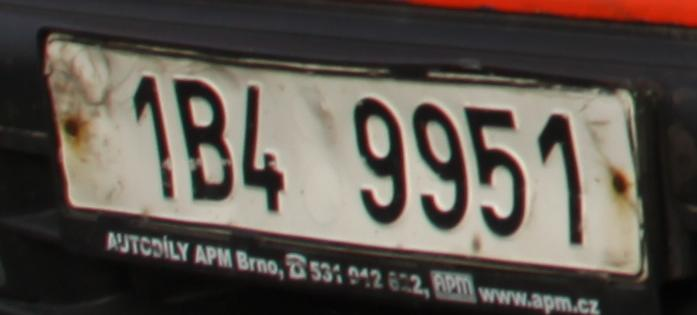1: (539, 115, 584, 244), (132, 77, 169, 200)
4: (241, 85, 285, 211)
5: (473, 107, 526, 235)
9: (415, 103, 464, 234), (355, 98, 404, 226)
B: (181, 78, 234, 198)
